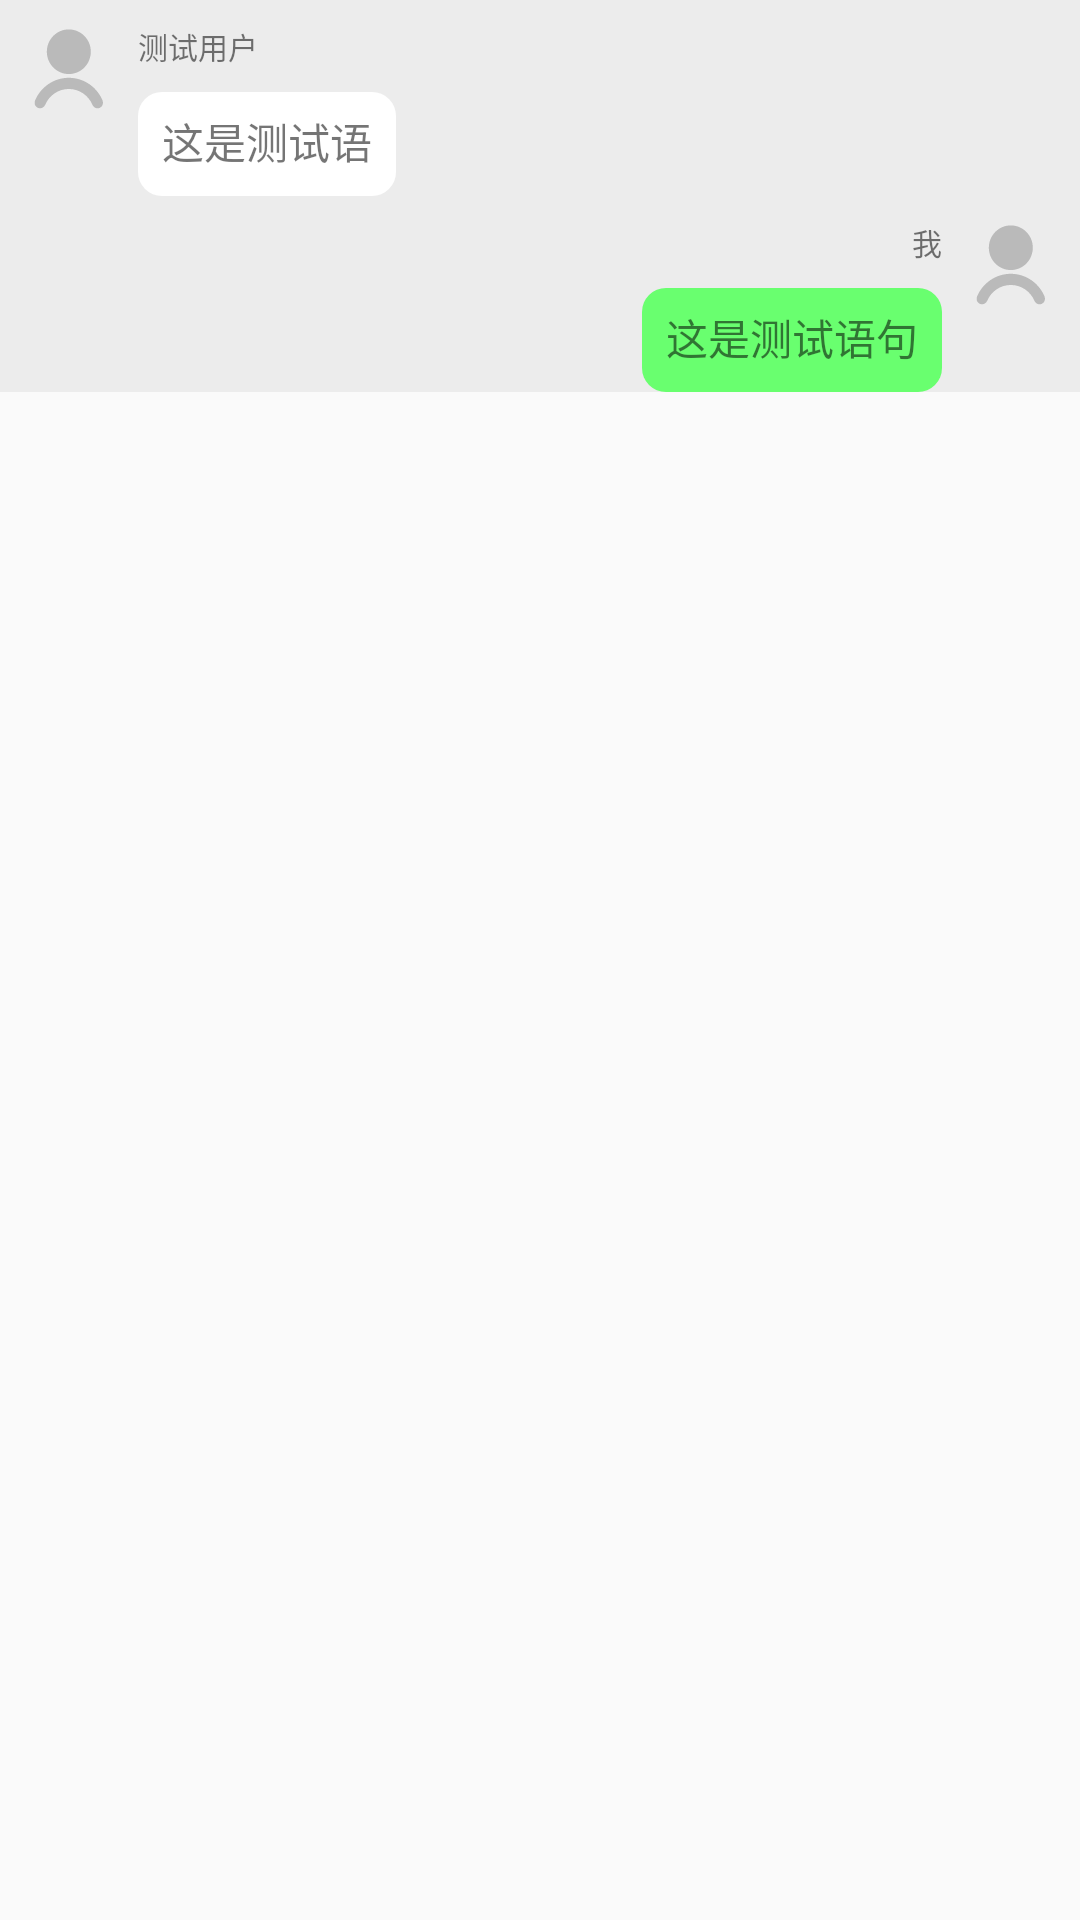

Named icons in this screenshot (1080px x 1920px) and their bounding boxes, (x1=x1, y1=y1, x2=x2, y2=y2):
user: (x1=35, y1=29, x2=103, y2=108), (x1=977, y1=225, x2=1045, y2=304)
